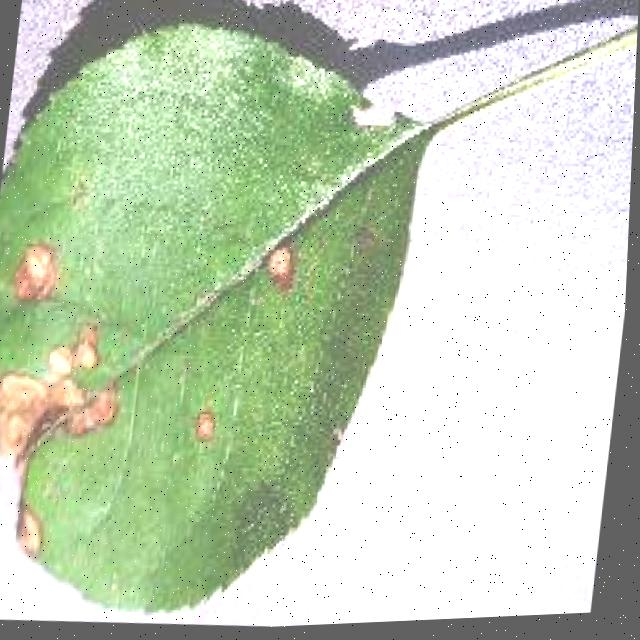black_rot: (0, 314, 143, 570), (0, 222, 77, 319), (254, 234, 324, 293), (183, 396, 229, 447)
